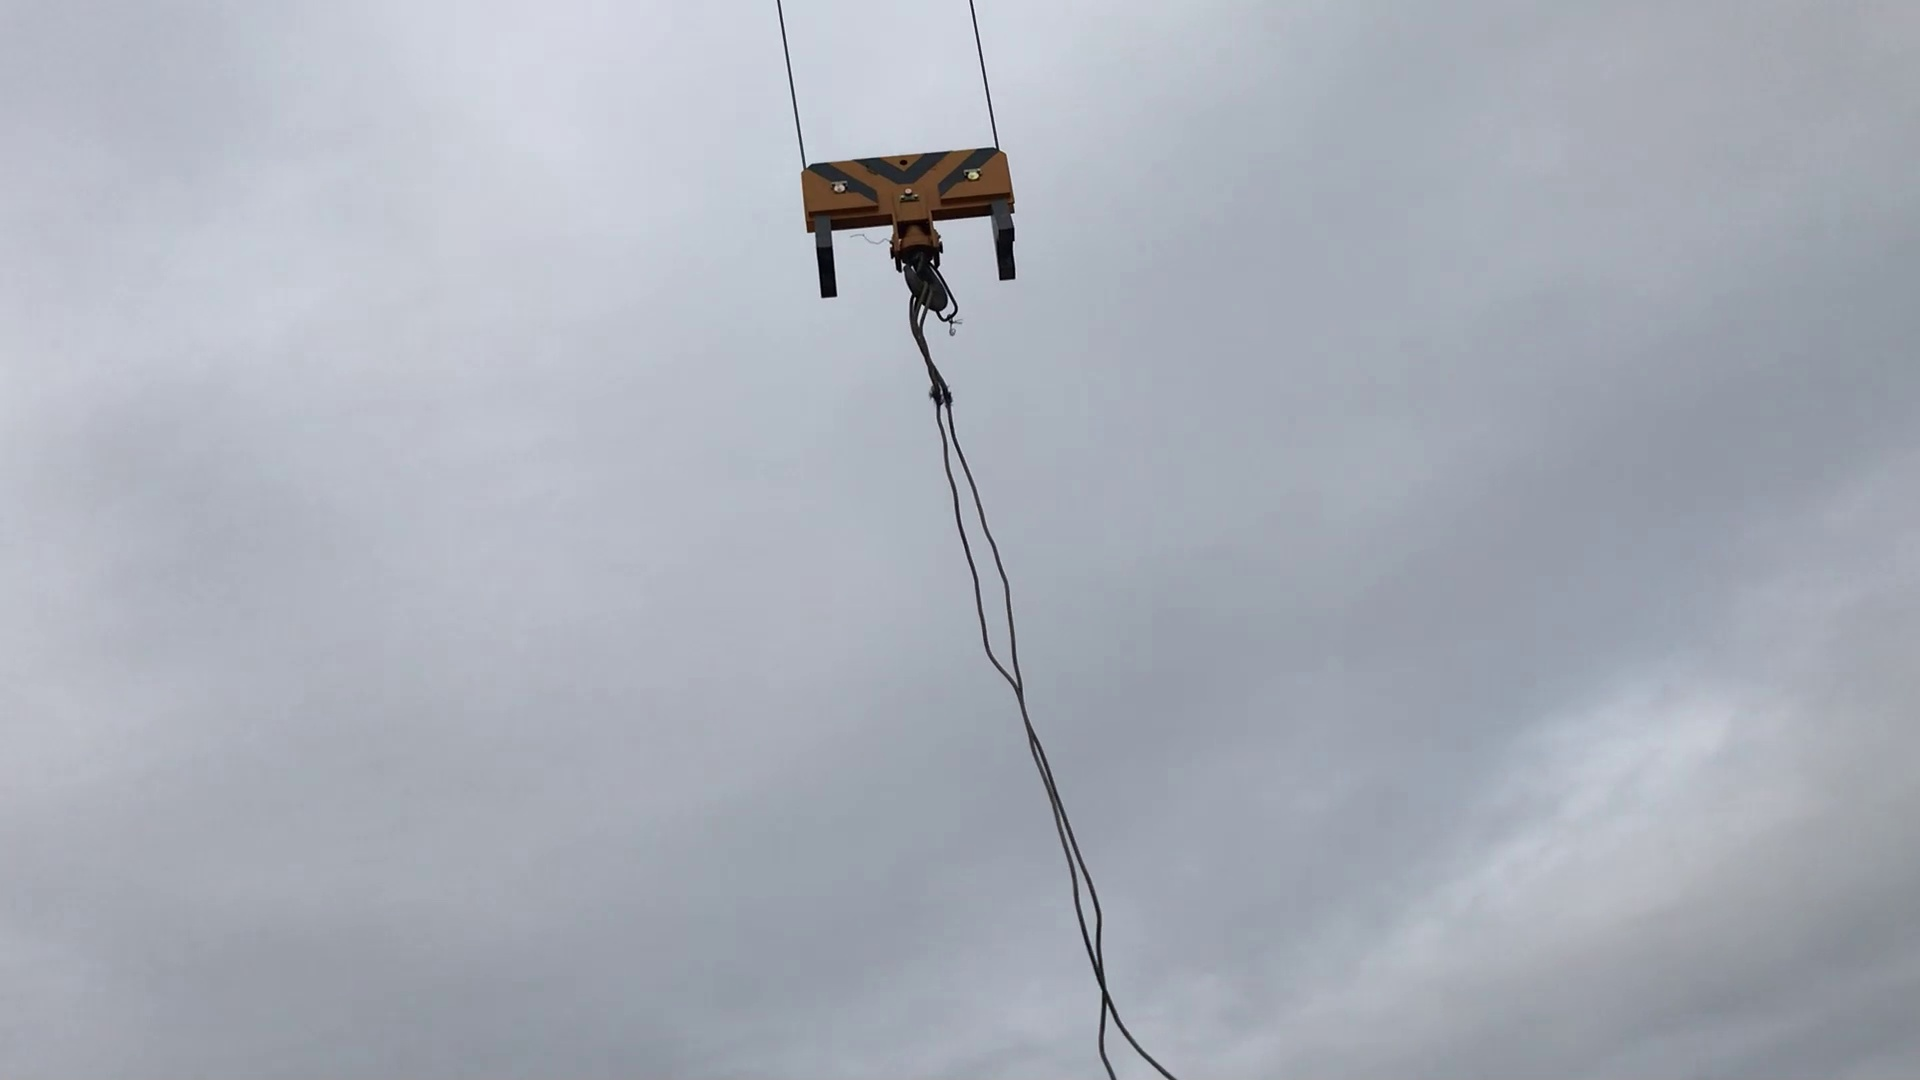hook: (778, 131, 1052, 330)
